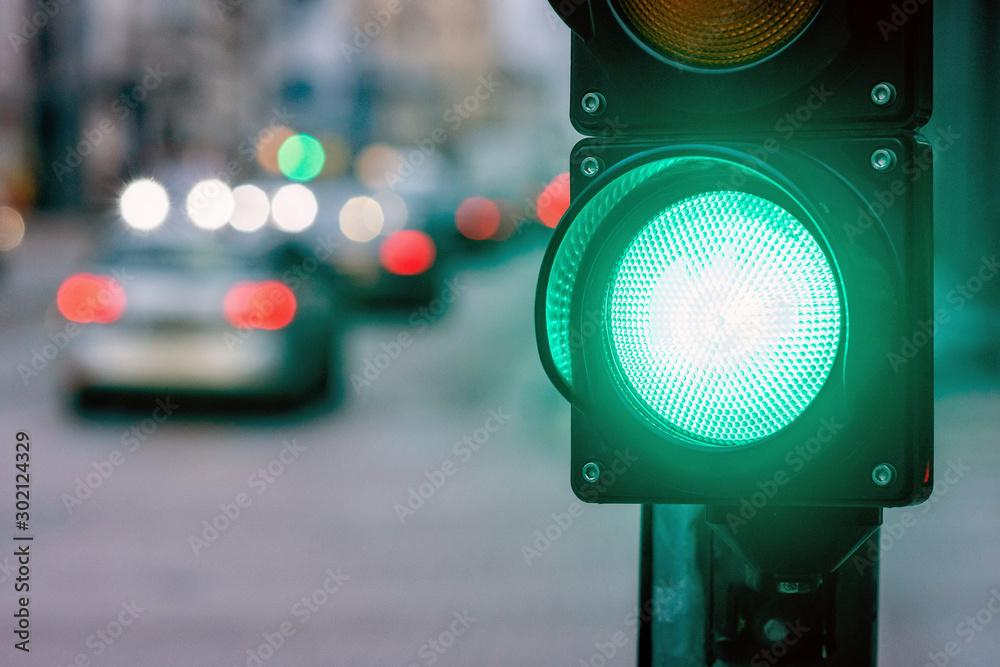Traffic light green: (490, 0, 960, 547)
